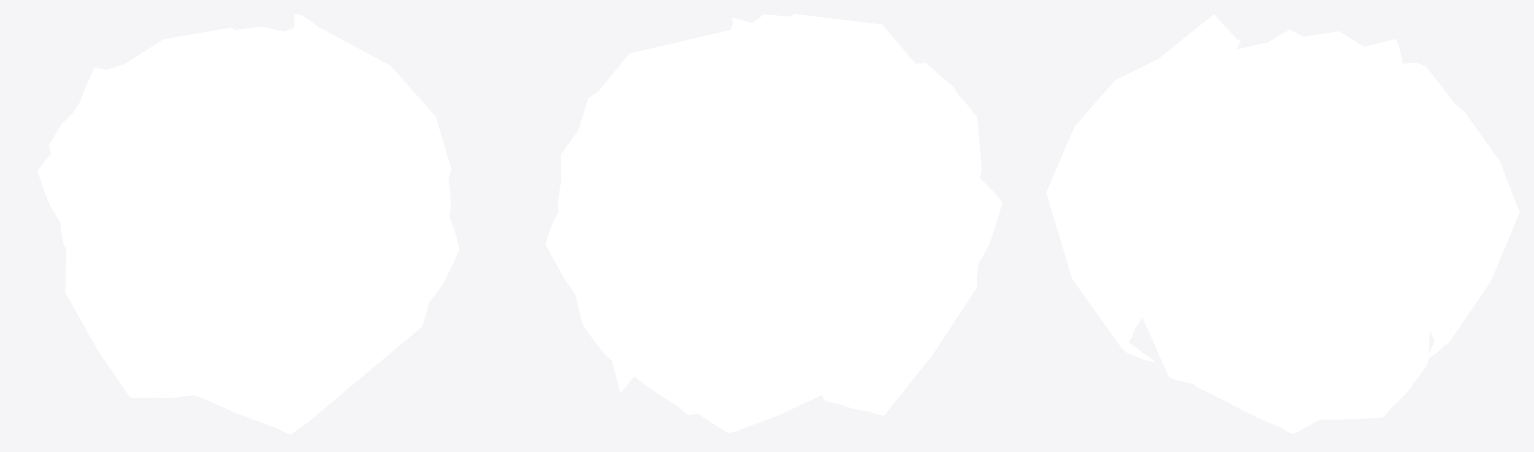
3 renders of one model, left to right at view 1: azimuth 30°, elevation 25°; view 2: azimuth 150°, elevation 25°; view 3: azimuth 270°, elevation 25°, orthographic. The views are drawn at different scales.
Parts seen in each view (by area): view 1: SM_Cabbage_01v2_LOD0; view 2: SM_Cabbage_01v2_LOD0; view 3: SM_Cabbage_01v2_LOD0.
Boxes of the visible parts, x1,y1,x2,y2 form: SM_Cabbage_01v2_LOD0: (37,14,459,434); SM_Cabbage_01v2_LOD0: (545,14,1002,432); SM_Cabbage_01v2_LOD0: (1046,14,1519,433).
Size of the model in its own units: 0.2251 by 0.1886 by 0.2356.
Materials: 1 (1 with a texture image).
